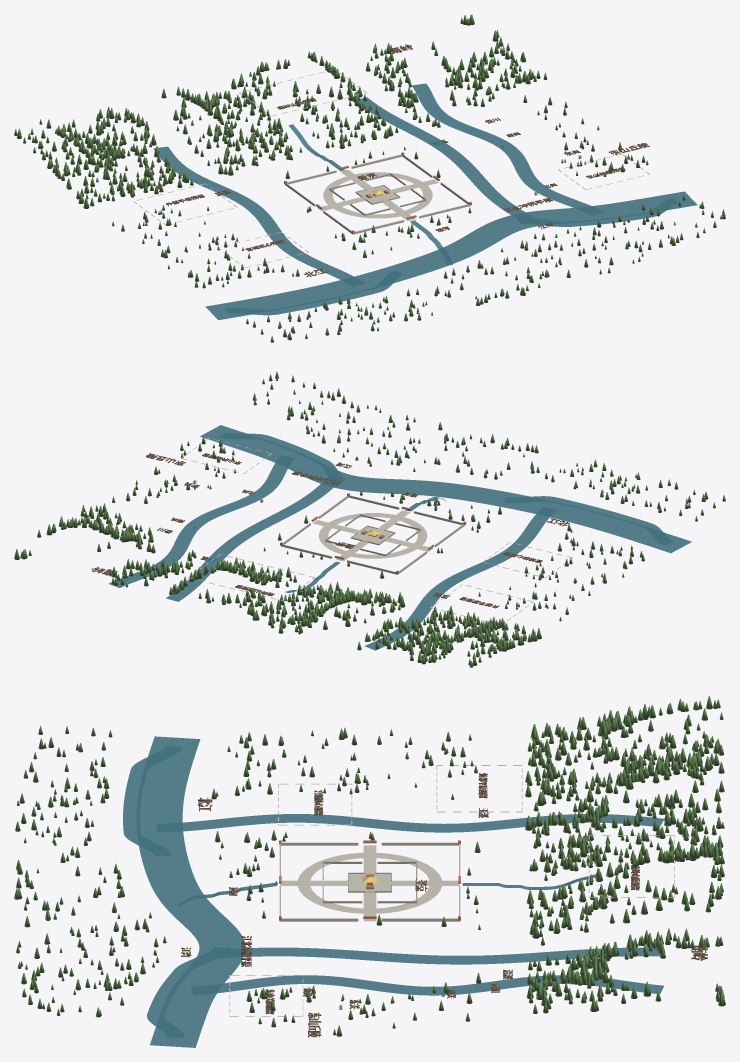
Rendered from shengjing-structures.glb.
The picture shows the model from 3 angles, top to bottom: view 1: azimuth 30°, elevation 25°; view 2: azimuth 150°, elevation 25°; view 3: azimuth 270°, elevation 25°; orthographic projection. The views are drawn at different scales.
Parts seen in each view (by area): view 1: 林木, 北江, 支流0, 支流2, 支流1, 环路, 北汊西; view 2: 林木, 北江, 支流0, 支流2, 支流1, 环路, 北汊西, 北汊东; view 3: 林木, 北江, 支流0, 支流2, 支流1, 环路, 北汊西, 北汊东, 御道NS, 御道EW, 皇城台基.
Boxes of the visible parts, x1=… form: 林木: x1=14, y1=14, x2=725, y2=342; 北江: x1=205, y1=191, x2=697, y2=320; 支流0: x1=153, y1=146, x2=353, y2=279; 支流2: x1=411, y1=83, x2=591, y2=207; 支流1: x1=359, y1=97, x2=525, y2=214; 环路: x1=323, y1=172, x2=432, y2=218; 北汊西: x1=253, y1=283, x2=392, y2=315; 林木: x1=14, y1=371, x2=725, y2=667; 北江: x1=200, y1=425, x2=691, y2=553; 支流0: x1=364, y1=514, x2=549, y2=650; 支流2: x1=108, y1=463, x2=287, y2=587; 支流1: x1=166, y1=483, x2=333, y2=601; 环路: x1=319, y1=513, x2=427, y2=558; 北汊西: x1=532, y1=496, x2=662, y2=531; 北汊东: x1=248, y1=433, x2=337, y2=470; 林木: x1=14, y1=696, x2=725, y2=1036; 北江: x1=136, y1=736, x2=245, y2=1047; 支流0: x1=182, y1=814, x2=664, y2=832; 支流2: x1=217, y1=975, x2=663, y2=995; 支流1: x1=244, y1=947, x2=660, y2=964; 环路: x1=298, y1=853, x2=441, y2=913; 北汊西: x1=123, y1=757, x2=147, y2=845; 北汊东: x1=147, y1=958, x2=195, y2=1026; 御道NS: x1=280, y1=880, x2=459, y2=885; 御道EW: x1=363, y1=845, x2=376, y2=921; 皇城台基: x1=348, y1=873, x2=391, y2=892.
Size of the model in its own units: 6152 by 617 by 5846.
